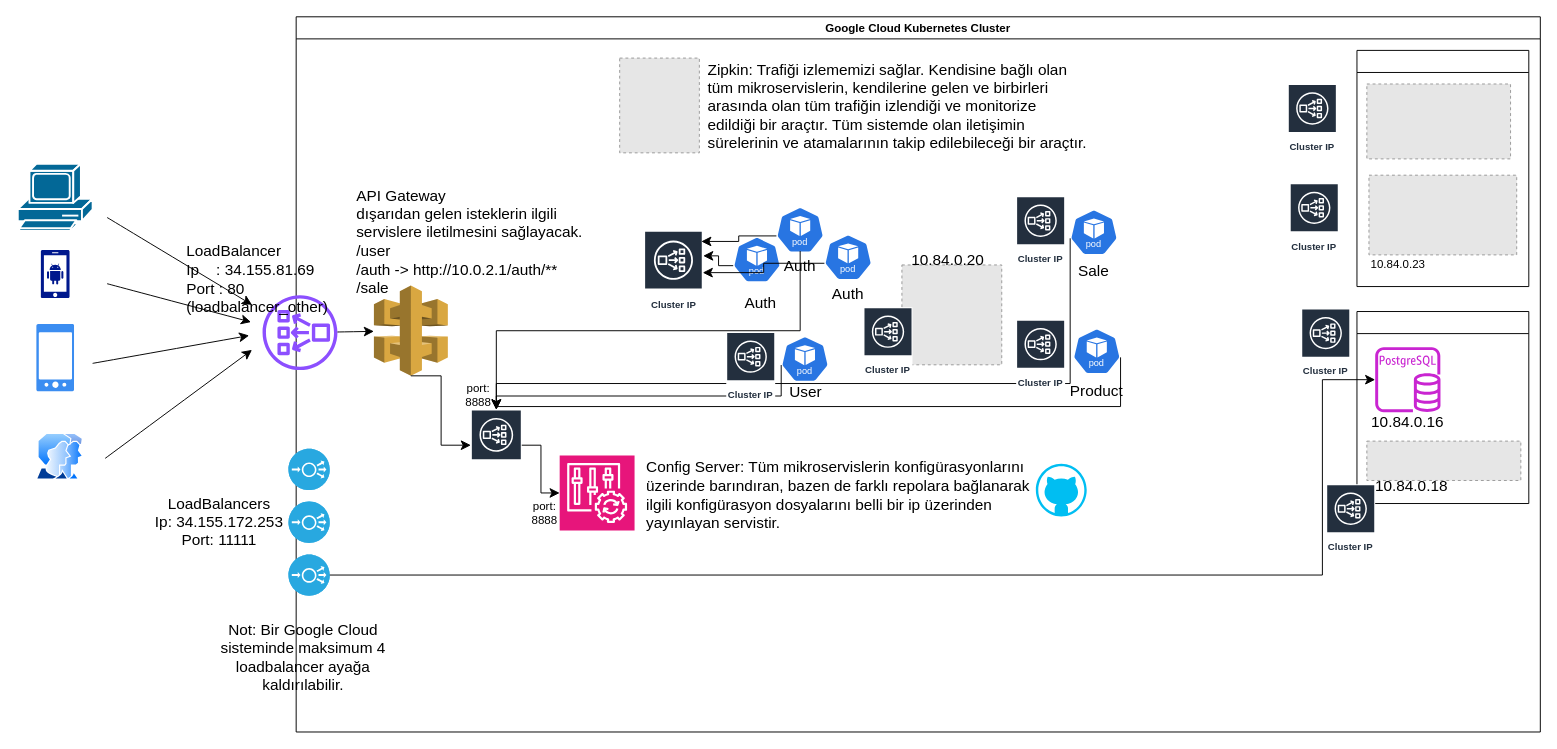
This 1557x749 diagram has some shape labels left out. Grey dashed boxes stand in for pictures. The box of each missing label's shape, as (x1, y1, x2, y2) in pixels:
Cluster IP: (470, 408, 522, 481)
Database: (1356, 311, 1529, 504)
In Memory Cache apps: (1356, 49, 1529, 287)
